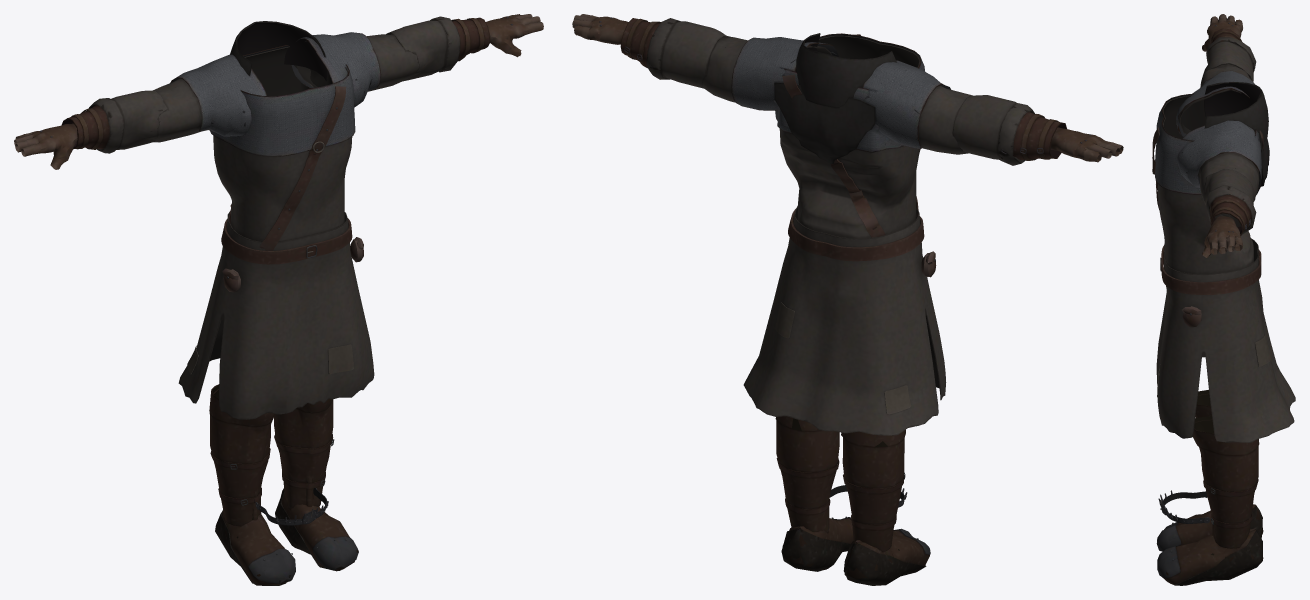
The model's file is mage_ashforged.glb.
3 views of the same model, side by side, from view 1: azimuth 30°, elevation 25°; view 2: azimuth 150°, elevation 25°; view 3: azimuth 270°, elevation 25° (orthographic). The views are drawn at different scales.
Parts seen in each view (by area): view 1: robe, feet, gloves, circlet; view 2: robe, feet, gloves; view 3: robe, feet, gloves, circlet.
Part boxes in pixels (box(x1,y1,x2,y2)): robe: box(88, 16, 460, 419); feet: box(209, 384, 358, 585); gloves: box(14, 14, 543, 169); circlet: box(255, 487, 328, 525); robe: box(646, 18, 1035, 435); feet: box(775, 416, 930, 585); gloves: box(572, 14, 1123, 162); robe: box(1152, 37, 1295, 442); feet: box(1156, 389, 1263, 585); gloves: box(1202, 14, 1255, 257); circlet: box(1158, 490, 1209, 523).
Bounding box in the file's own units: 1.73 × 1.65 × 0.4501.
4 materials, 4 textured.
